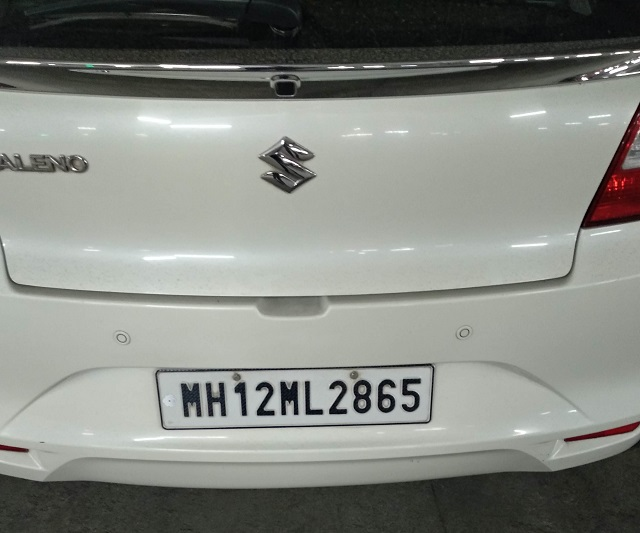licenseplate: (152, 367, 438, 425)
